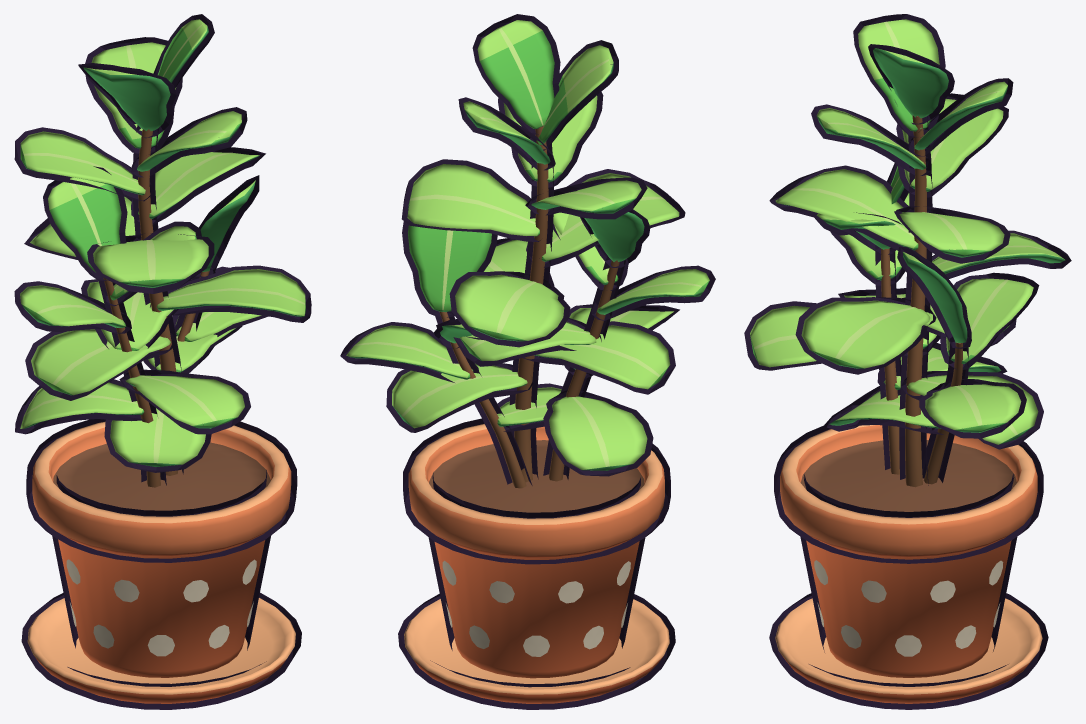
The model's file is PottedPlant.glb.
3 renders of one model, left to right at view 1: azimuth 30°, elevation 25°; view 2: azimuth 150°, elevation 25°; view 3: azimuth 270°, elevation 25°, orthographic.
Parts seen in each view (by area): view 1: PottedPlant, PottedPlant_Outline; view 2: PottedPlant, PottedPlant_Outline; view 3: PottedPlant, PottedPlant_Outline.
Boxes of the visible parts, <box> form: PottedPlant: <box>20,19,305,703</box>; PottedPlant_Outline: <box>14,14,311,709</box>; PottedPlant: <box>346,20,709,703</box>; PottedPlant_Outline: <box>340,14,715,709</box>; PottedPlant: <box>750,19,1065,703</box>; PottedPlant_Outline: <box>744,14,1071,709</box>.
Size of the model in its own units: 8.88 by 17.34 by 8.13.
1 material, 1 textured.
